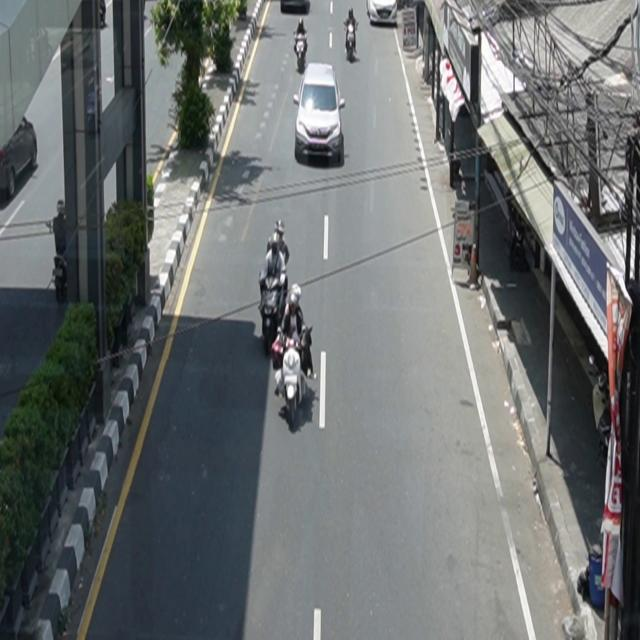car: (294, 63, 346, 165), (1, 115, 38, 201), (366, 1, 398, 26)
